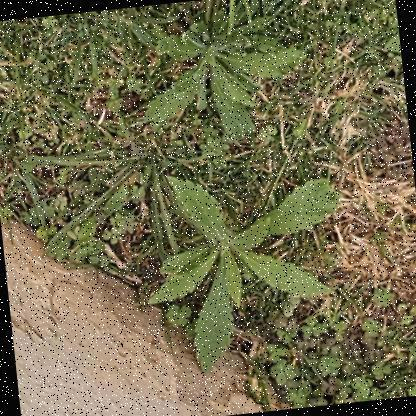Weeds: (135, 160, 354, 379), (131, 6, 313, 152)
